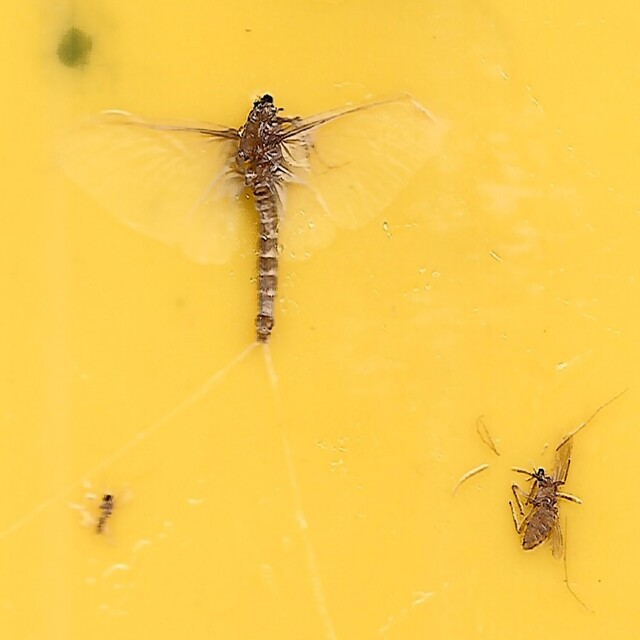Ephemeroptera: (59, 79, 445, 350)
Nematocera: (500, 429, 581, 561)
